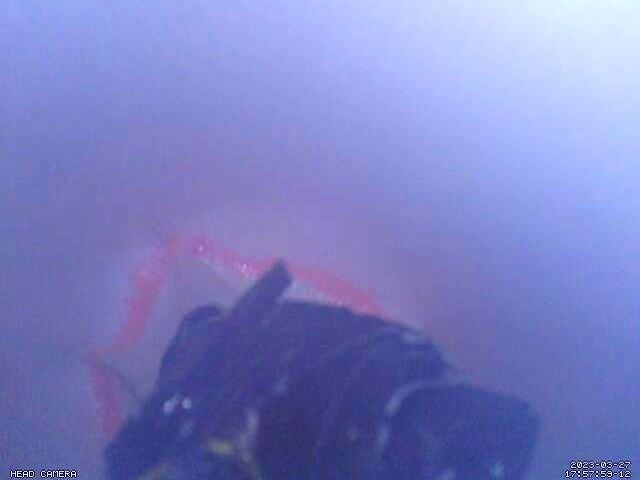head: (85, 234, 396, 440)
